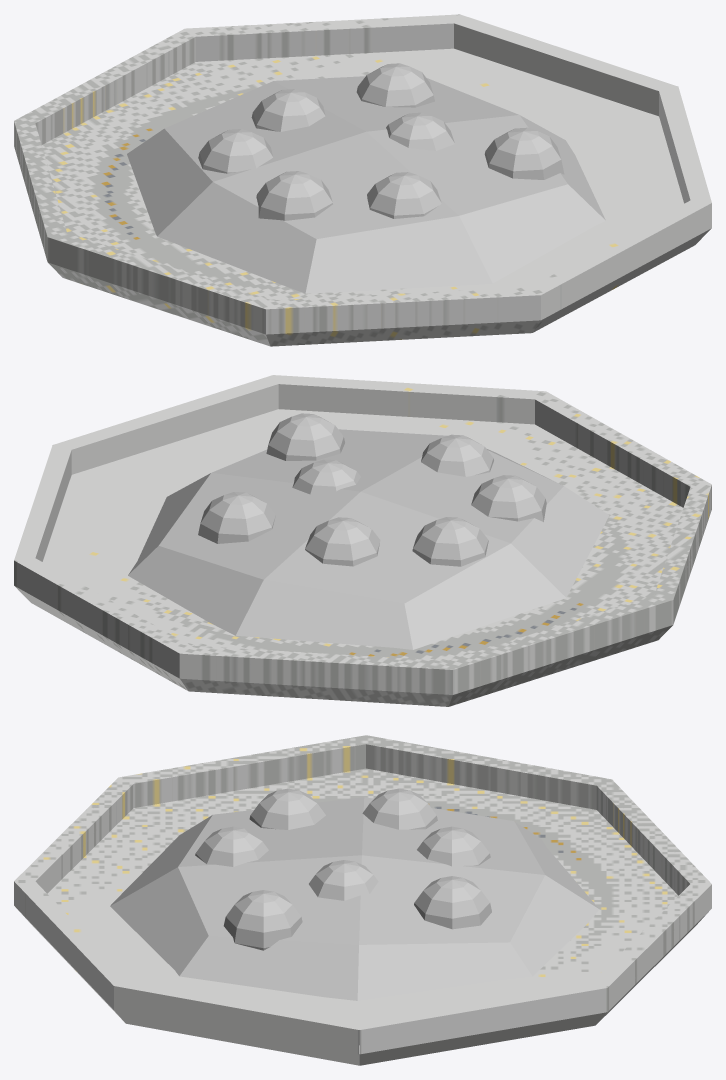
Rendered from SM_Spaghetti.fbx.
3 renders of one model, top to bottom at view 1: azimuth 30°, elevation 25°; view 2: azimuth 150°, elevation 25°; view 3: azimuth 270°, elevation 25°, orthographic. The views are drawn at different scales.
Parts seen in each view (by area): view 1: Plate, Spaghetti; view 2: Plate, Spaghetti; view 3: Plate, Spaghetti.
Boxes of the visible parts, box(x1,y1,x2,y2) form: Plate: box(14, 14, 711, 346); Spaghetti: box(127, 63, 605, 293); Plate: box(14, 375, 711, 706); Spaghetti: box(128, 413, 609, 649); Plate: box(14, 735, 711, 1065); Spaghetti: box(110, 788, 599, 1000).
Size of the model in its own units: 0.6452 by 0.0845 by 0.6452.
